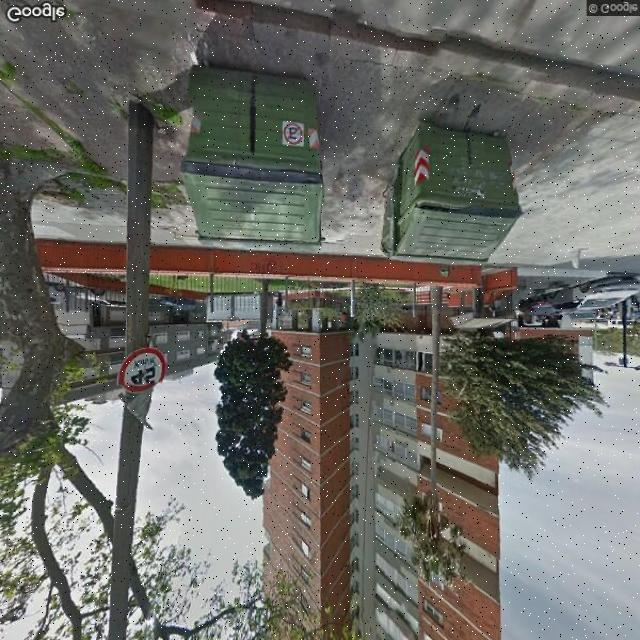garbage container: (173, 62, 336, 260), (374, 108, 535, 275)
